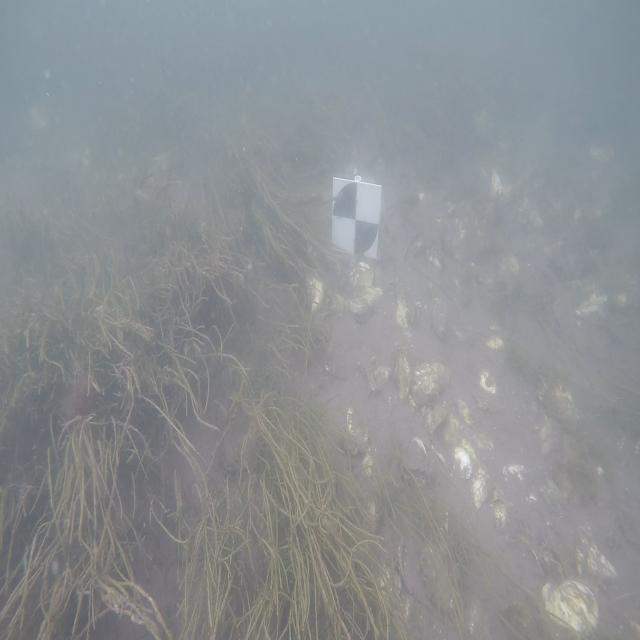Oyster- Indeterminate: (476, 370, 498, 412), (346, 409, 369, 447), (361, 447, 375, 478)
Oyster-Closed: (532, 570, 610, 638), (342, 258, 385, 310), (342, 277, 385, 326), (411, 362, 449, 404), (413, 397, 450, 435), (508, 460, 533, 515), (393, 346, 413, 401), (394, 295, 421, 331), (452, 445, 473, 479), (471, 469, 488, 509), (493, 497, 509, 539), (308, 276, 324, 312), (457, 399, 472, 425)
Oyster-Open: (383, 529, 432, 615), (405, 435, 429, 474), (369, 367, 390, 391)
